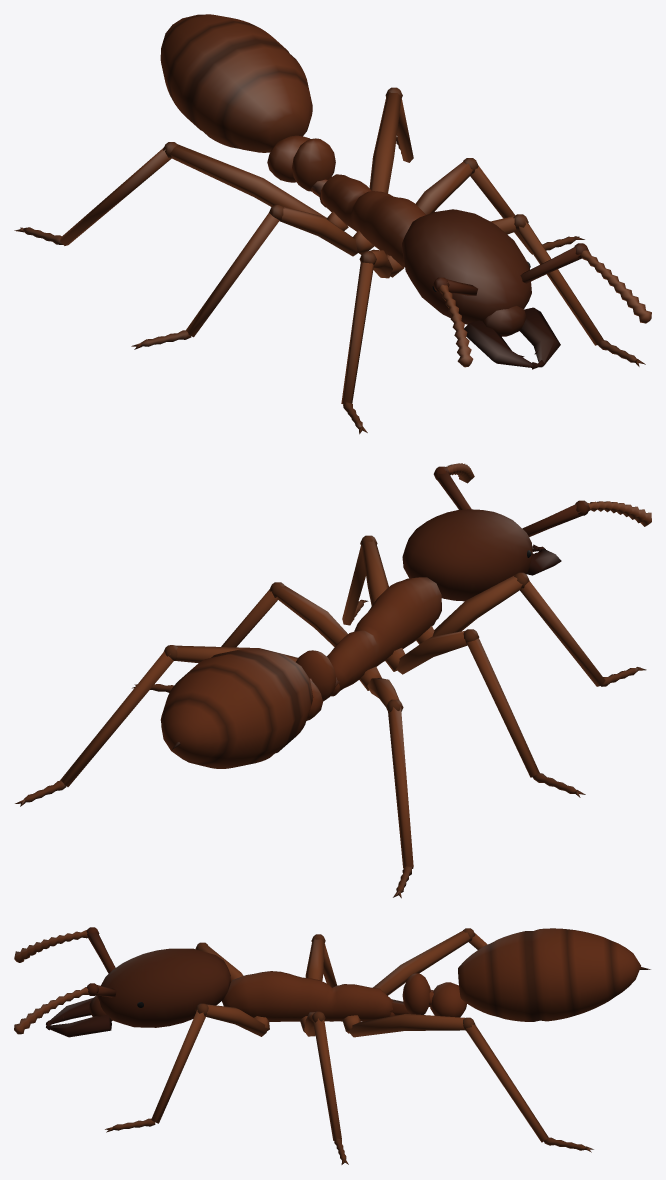
Rendered from NeivamyrmexEctopus.fbx.
The picture shows the model from 3 angles, top to bottom: view 1: azimuth 30°, elevation 25°; view 2: azimuth 150°, elevation 25°; view 3: azimuth 270°, elevation 25°; orthographic projection. The views are drawn at different scales.
Visible parts, largest first — view 1: NeivamyrmexEctopus; view 2: NeivamyrmexEctopus; view 3: NeivamyrmexEctopus.
Boxes of the visible parts, x1,y1,x2,y2 form: NeivamyrmexEctopus: (14,14,651,434); NeivamyrmexEctopus: (15,463,651,898); NeivamyrmexEctopus: (14,927,650,1164).
Size of the model in its own units: 0.8922 by 0.3249 by 1.33.
